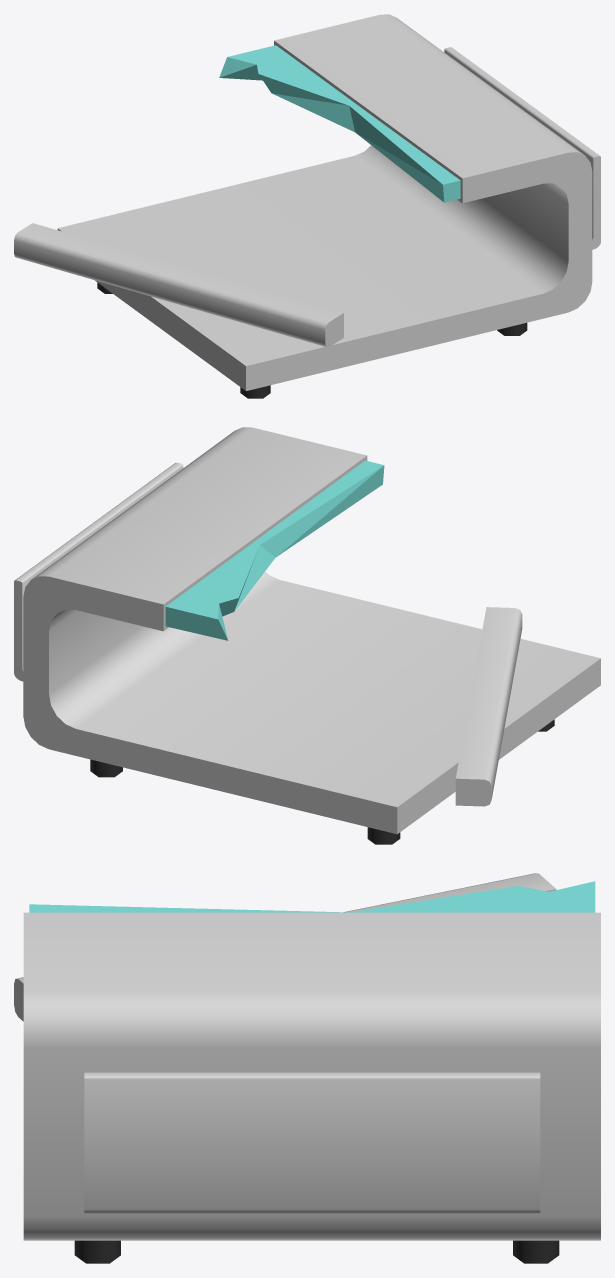
File: Lounge Table Destroyed A.fbx
3 renders of one model, top to bottom at view 1: azimuth 30°, elevation 25°; view 2: azimuth 150°, elevation 25°; view 3: azimuth 270°, elevation 25°, orthographic. The views are drawn at different scales.
Visible parts, largest first — view 1: Lounge Table Destroyed A; view 2: Lounge Table Destroyed A; view 3: Lounge Table Destroyed A.
Part boxes in pixels (<box>): Lounge Table Destroyed A: <box>14,14,600,398</box>; Lounge Table Destroyed A: <box>14,427,600,844</box>; Lounge Table Destroyed A: <box>14,873,600,1263</box>.
Bounding box in the file's own units: 0.9329 × 0.3805 × 0.7038.
